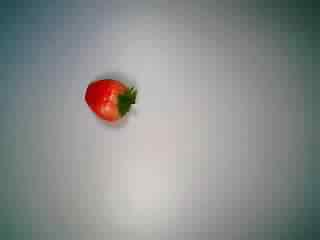strawberry: (83, 69, 149, 135)
